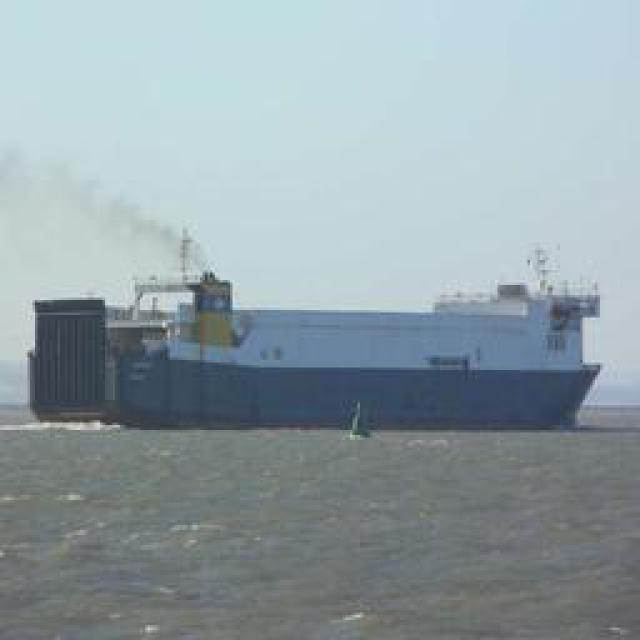Ship: (17, 228, 614, 429)
